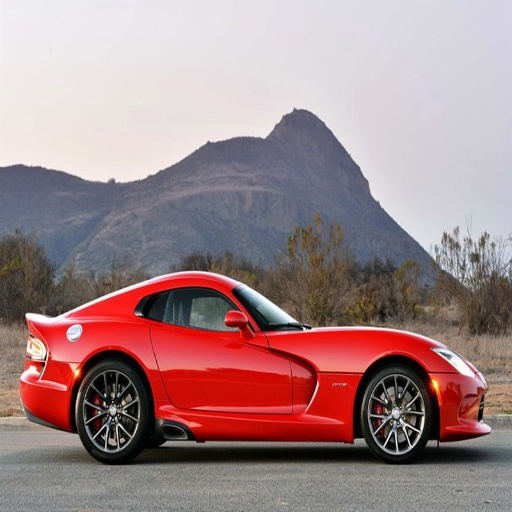back_right_door: (148, 284, 201, 406)
